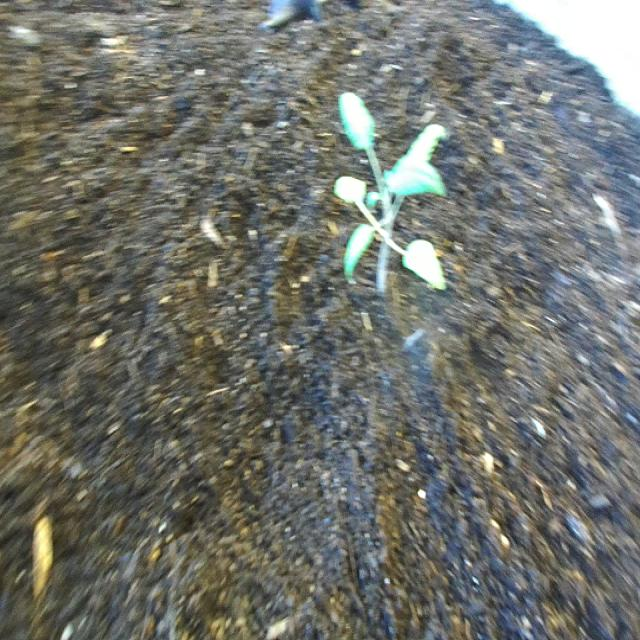Healthy: (324, 77, 458, 331)
